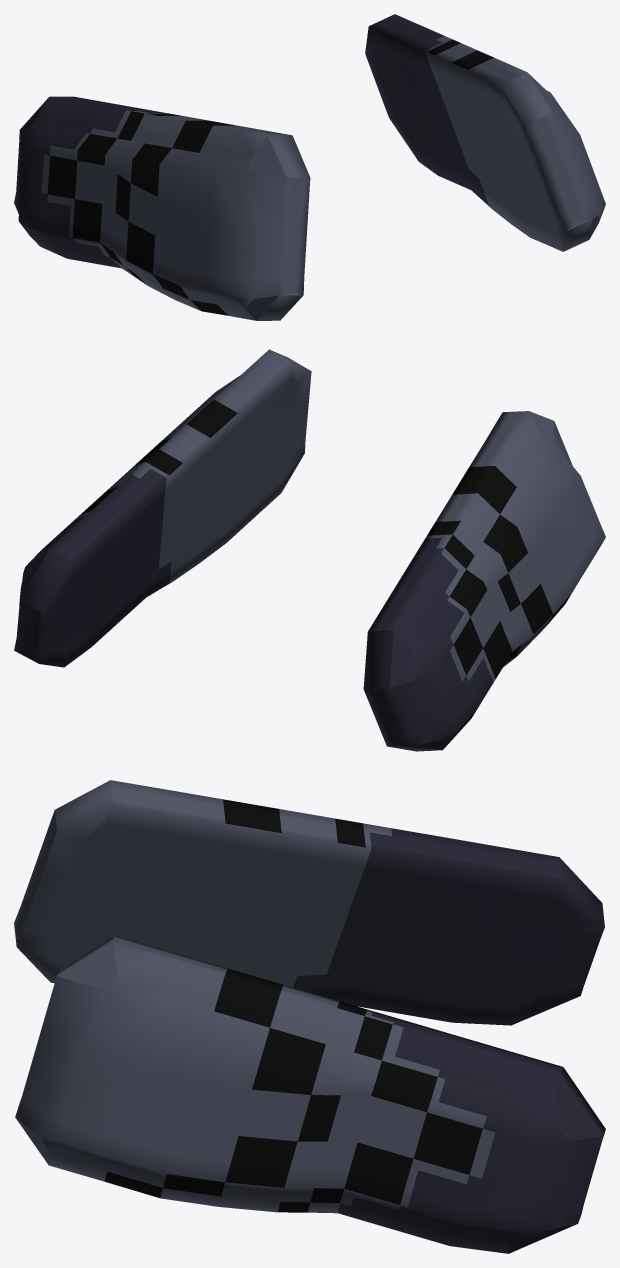
File: FliersFixed.fbx
3 views of the same model, one above another, from view 1: azimuth 30°, elevation 25°; view 2: azimuth 150°, elevation 25°; view 3: azimuth 270°, elevation 25° (orthographic). The views are drawn at different scales.
Parts seen in each view (by area): view 1: flyers_l, flyers_r001; view 2: flyers_l, flyers_r001; view 3: flyers_r001, flyers_l.
Boxes of the visible parts, <box> form: flyers_l: <box>14,96,310,320</box>; flyers_r001: <box>365,14,605,251</box>; flyers_l: <box>363,411,605,751</box>; flyers_r001: <box>14,349,311,667</box>; flyers_r001: <box>15,935,605,1253</box>; flyers_l: <box>14,780,604,1025</box>.
Bounding box in the file's own units: 50.31 × 23.6 × 45.9.
